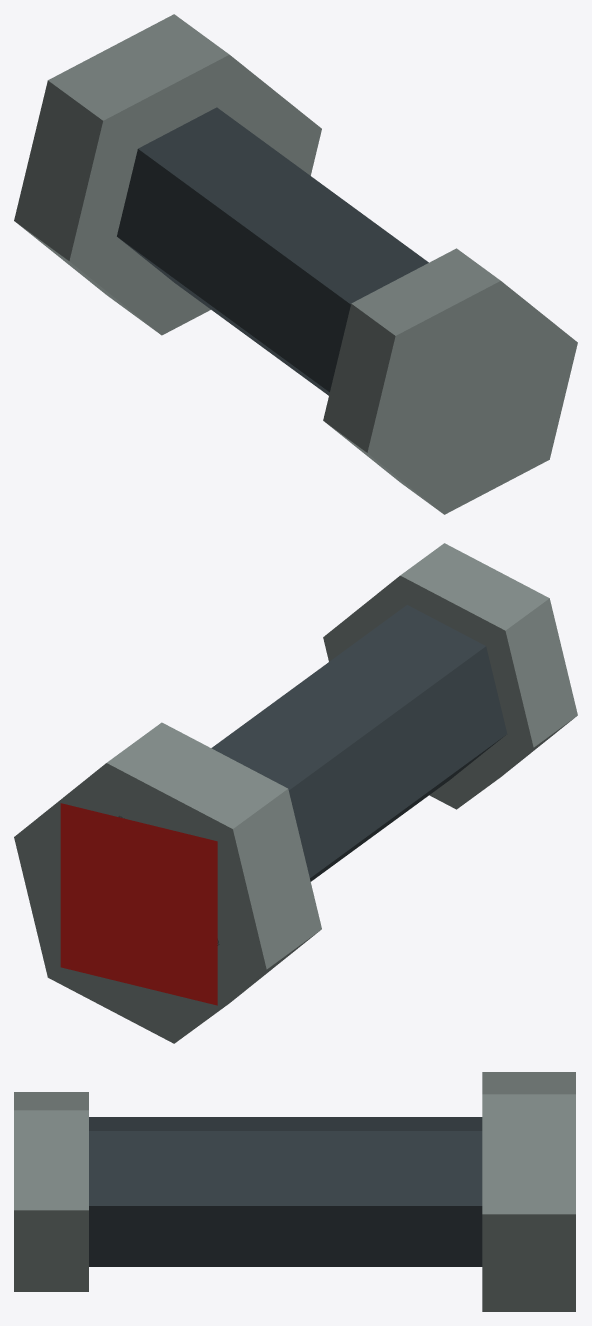
The picture shows the model from 3 angles, top to bottom: view 1: azimuth 30°, elevation 25°; view 2: azimuth 150°, elevation 25°; view 3: azimuth 270°, elevation 25°; orthographic projection. The views are drawn at different scales.
Parts seen in each view (by area): view 1: mount; view 2: mount; view 3: mount.
Boxes of the visible parts, left/top/right/bottom form: mount: left=14, top=14, right=577, bottom=514; mount: left=14, top=543, right=577, bottom=1043; mount: left=14, top=1072, right=575, bottom=1311.
Size of the model in its own units: 3.48 by 3.48 by 7.95.
